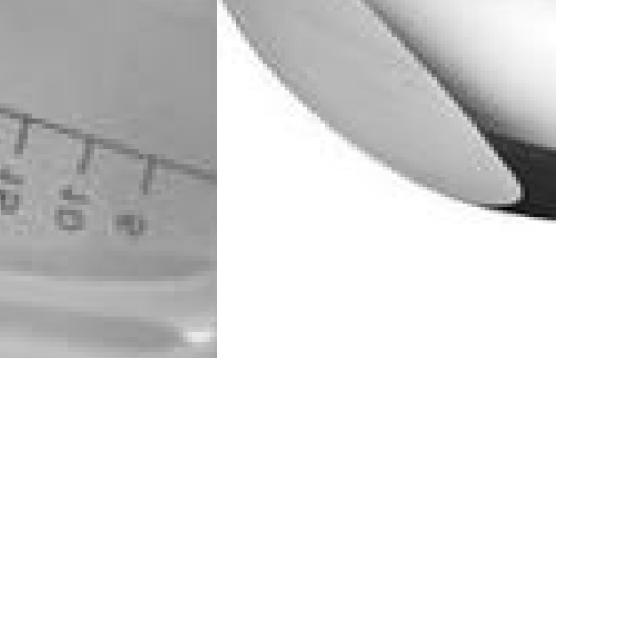spoons: (217, 0, 555, 250), (0, 0, 217, 358)
